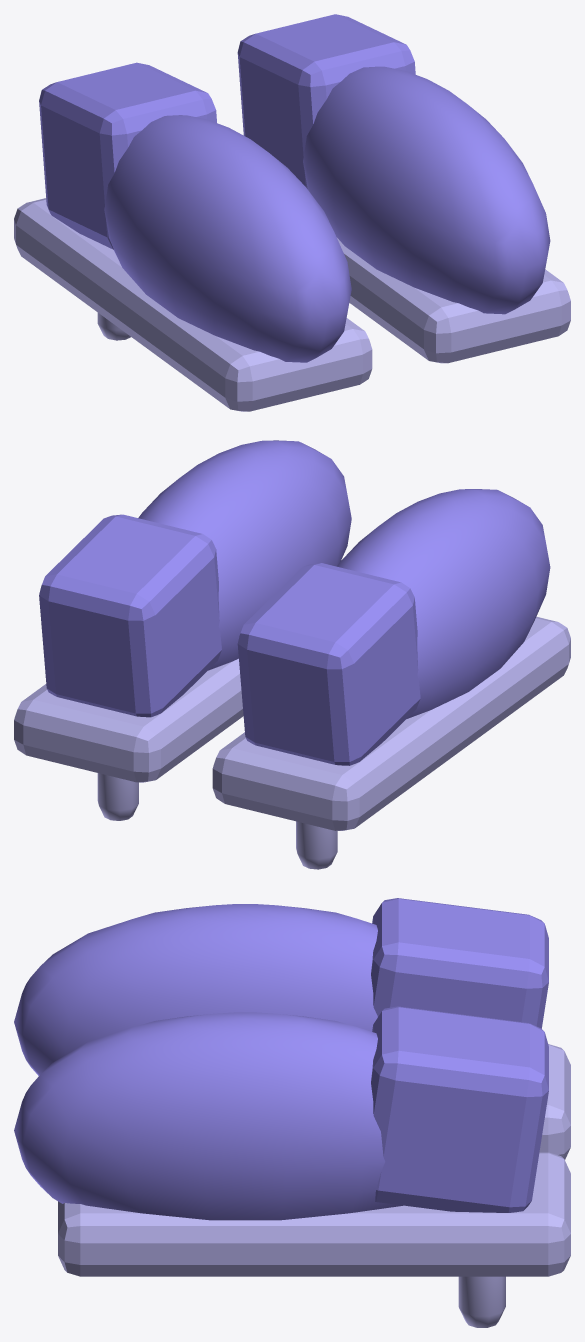
File: VM-DAM-SH39310128.glb
The picture shows the model from 3 angles, top to bottom: view 1: azimuth 30°, elevation 25°; view 2: azimuth 150°, elevation 25°; view 3: azimuth 270°, elevation 25°; orthographic projection. The views are drawn at different scales.
Visible parts, largest first — view 1: Clips Decorativos Para Tacones; view 2: Clips Decorativos Para Tacones; view 3: Clips Decorativos Para Tacones.
Part boxes in pixels (x1,y1,x2,y2): Clips Decorativos Para Tacones: (14,14,570,411); Clips Decorativos Para Tacones: (14,440,570,869); Clips Decorativos Para Tacones: (14,898,570,1327).
Bounding box in the file's own units: 0.216 × 0.1656 × 0.271.
